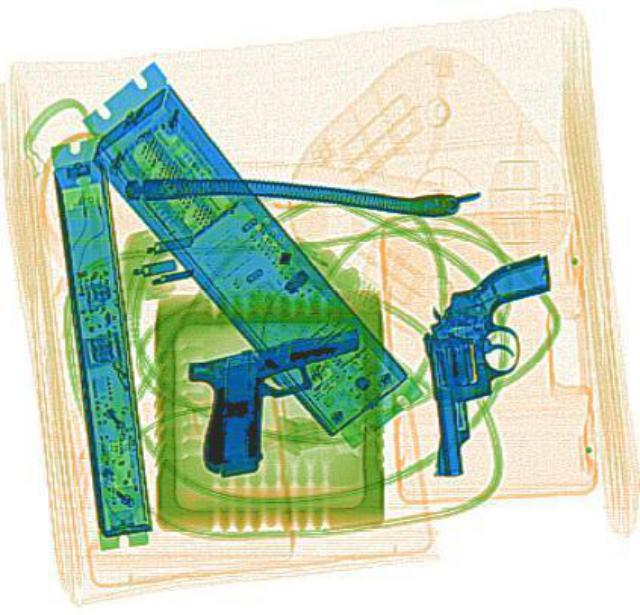Gun: (416, 253, 564, 474), (175, 324, 383, 479)
